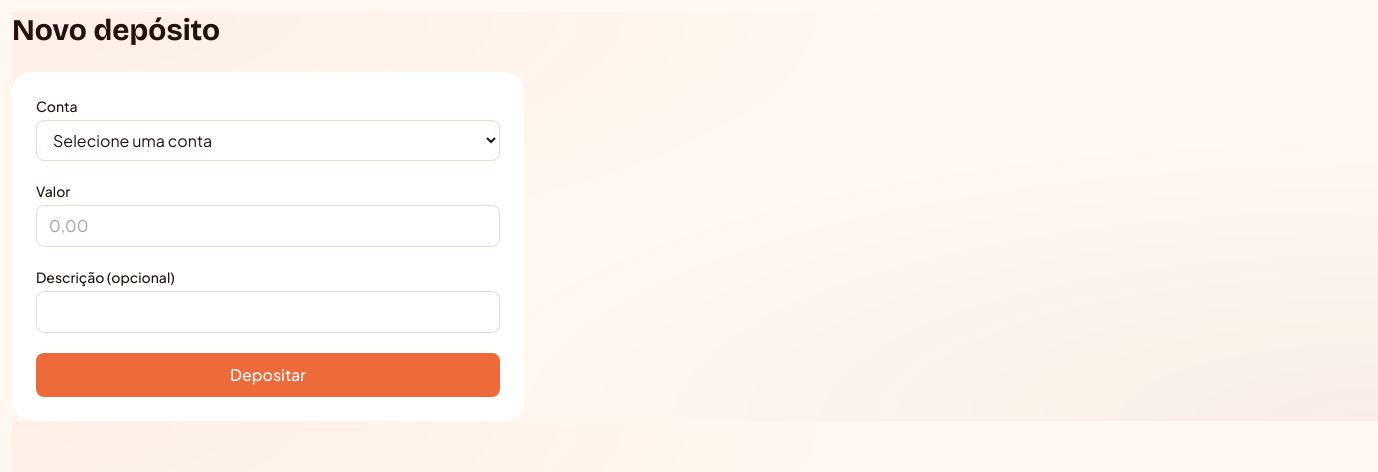
DepositoForm › valida valor obrigatório e maior que zero
The width and height of the screenshot is (1378, 472).
Select "Agência 0001 · Conta 0042-0" in the dropdown labelled "Conta" at [268, 140], box [36, 120, 500, 161]
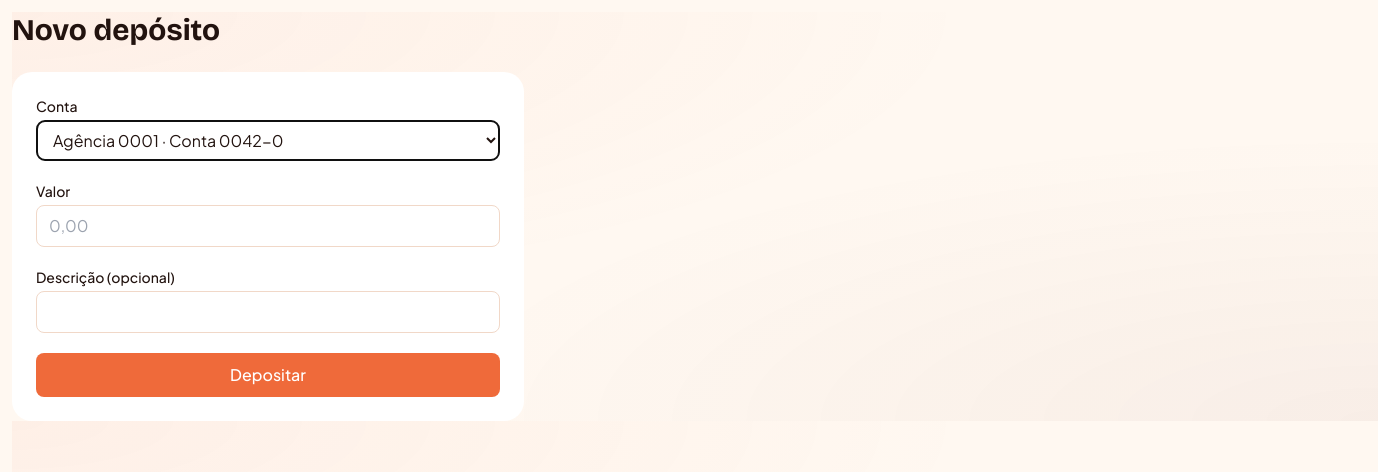
Type "0" into the field labelled "Valor".
click(268, 226); type("0")  # box [36, 205, 500, 247]
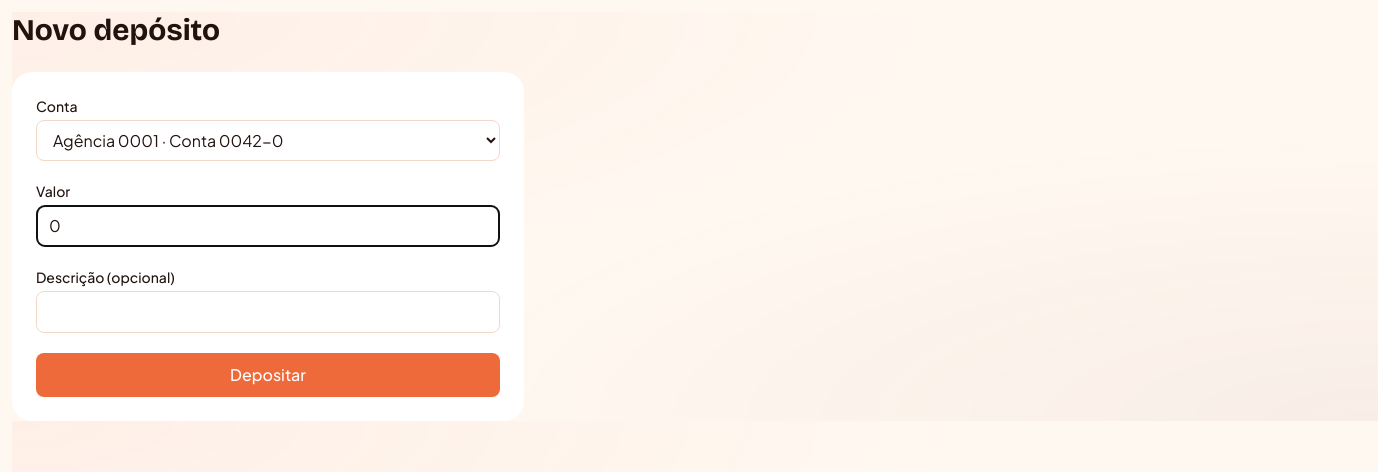
Click the button "Depositar".
click(268, 375)  # box [36, 353, 500, 397]
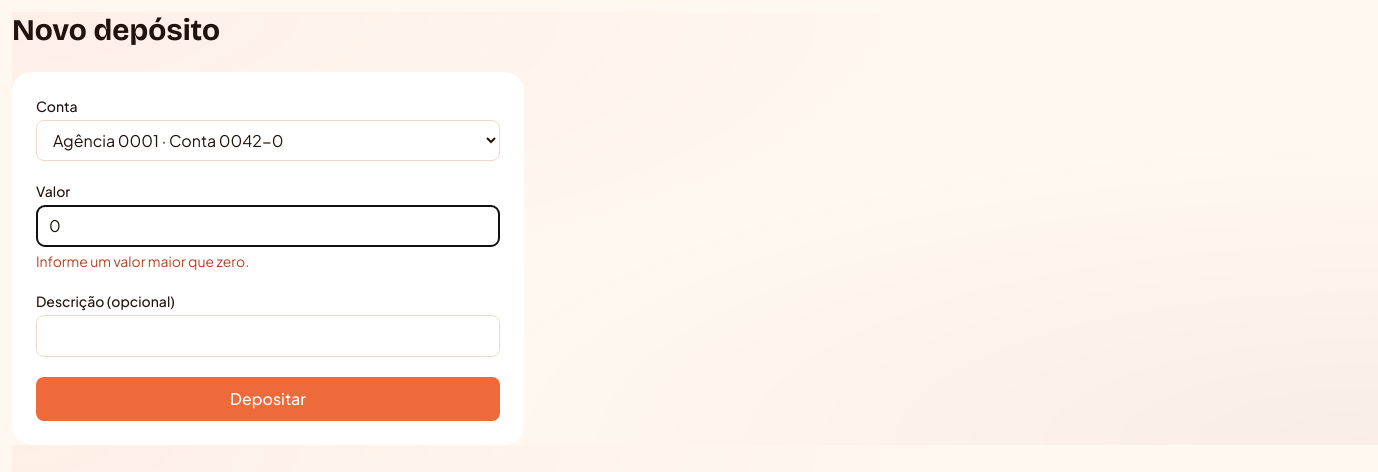
Check: the text "Informe um valor maior que zero." is shown, box [36, 252, 249, 270]
